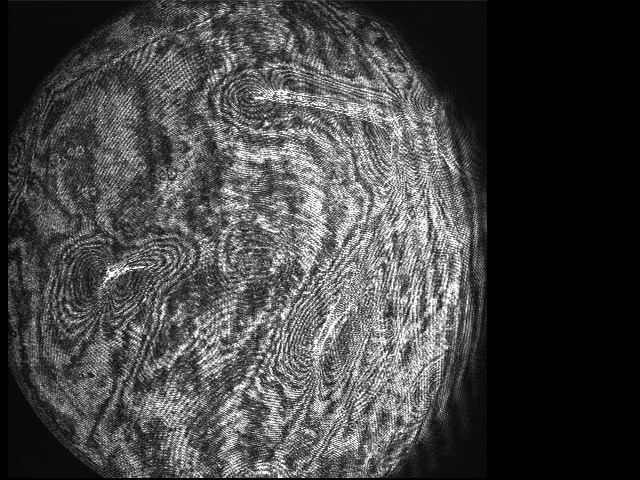plume: (50, 242, 182, 331)
